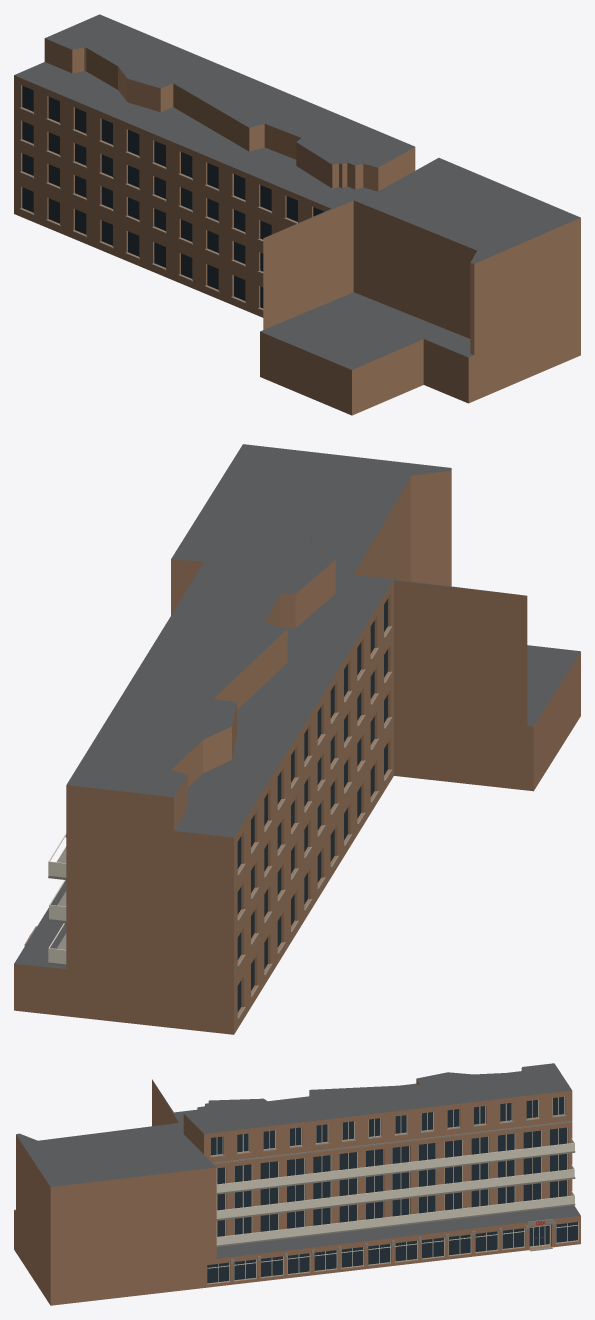
Rendered from recipe-large-oba-mercatorplein.glb.
3 renders of one model, top to bottom at view 1: azimuth 30°, elevation 25°; view 2: azimuth 150°, elevation 25°; view 3: azimuth 270°, elevation 25°, orthographic. The views are drawn at different scales.
Parts seen in each view (by area): view 1: oba-mercatorplein; view 2: oba-mercatorplein; view 3: oba-mercatorplein.
Part boxes in pixels (x1,y1,x2,y2): oba-mercatorplein: [14, 14, 580, 415]; oba-mercatorplein: [14, 444, 580, 1034]; oba-mercatorplein: [14, 1063, 580, 1305].
Bounding box in the file's own units: 30.42 × 16.89 × 61.84.
